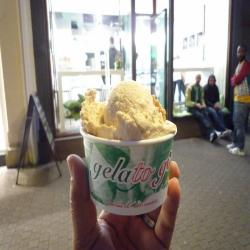icecream: (70, 75, 181, 150)
